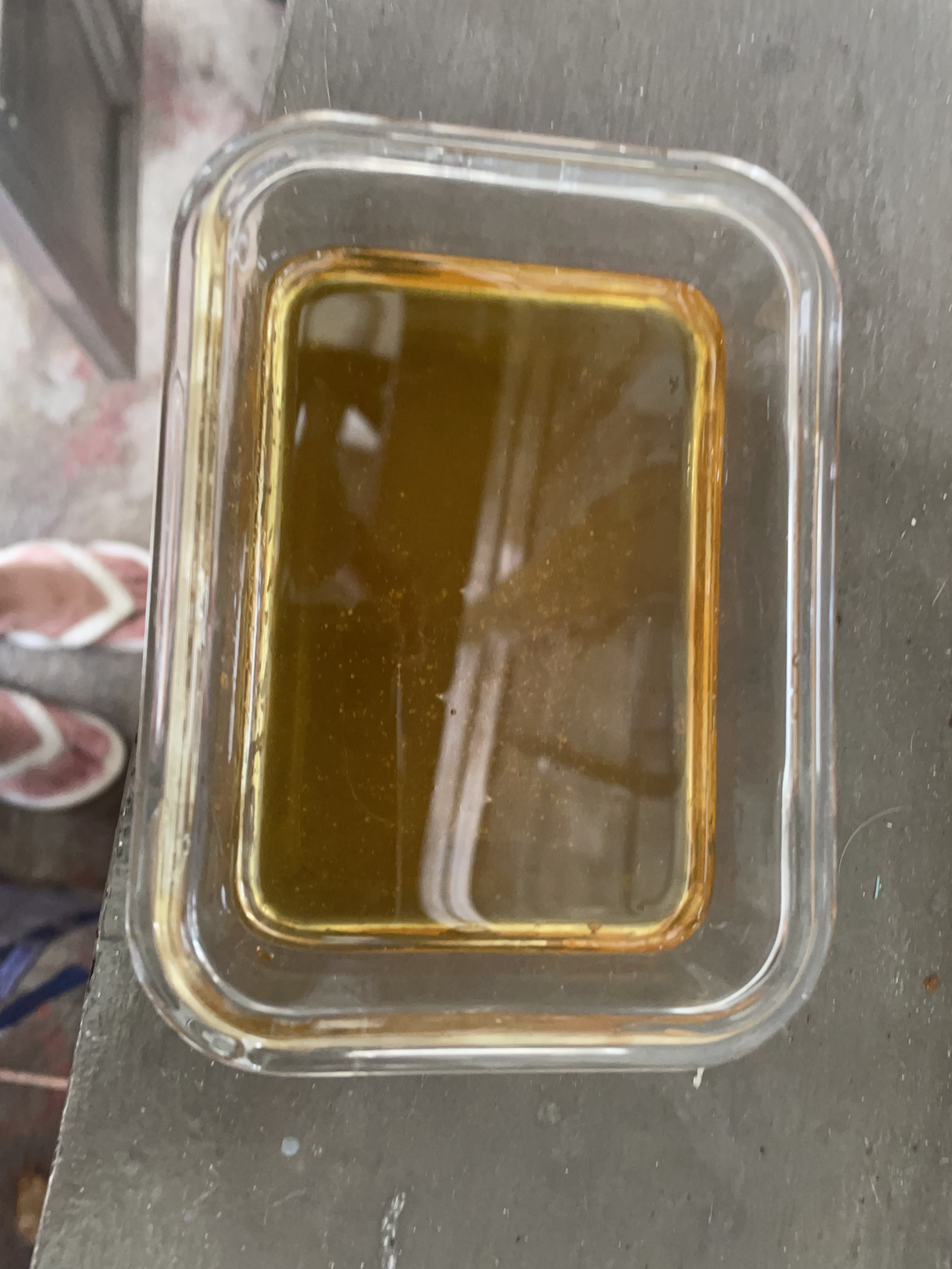reusable: (227, 239, 724, 957)
